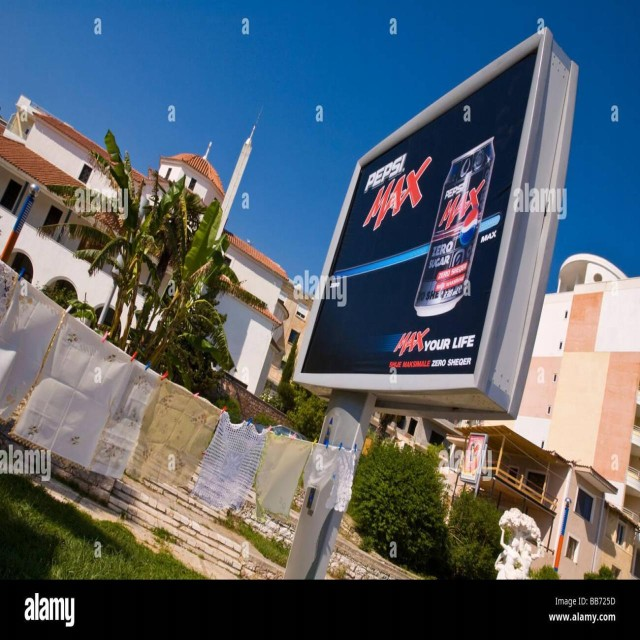pepsi: (459, 205, 481, 248)
